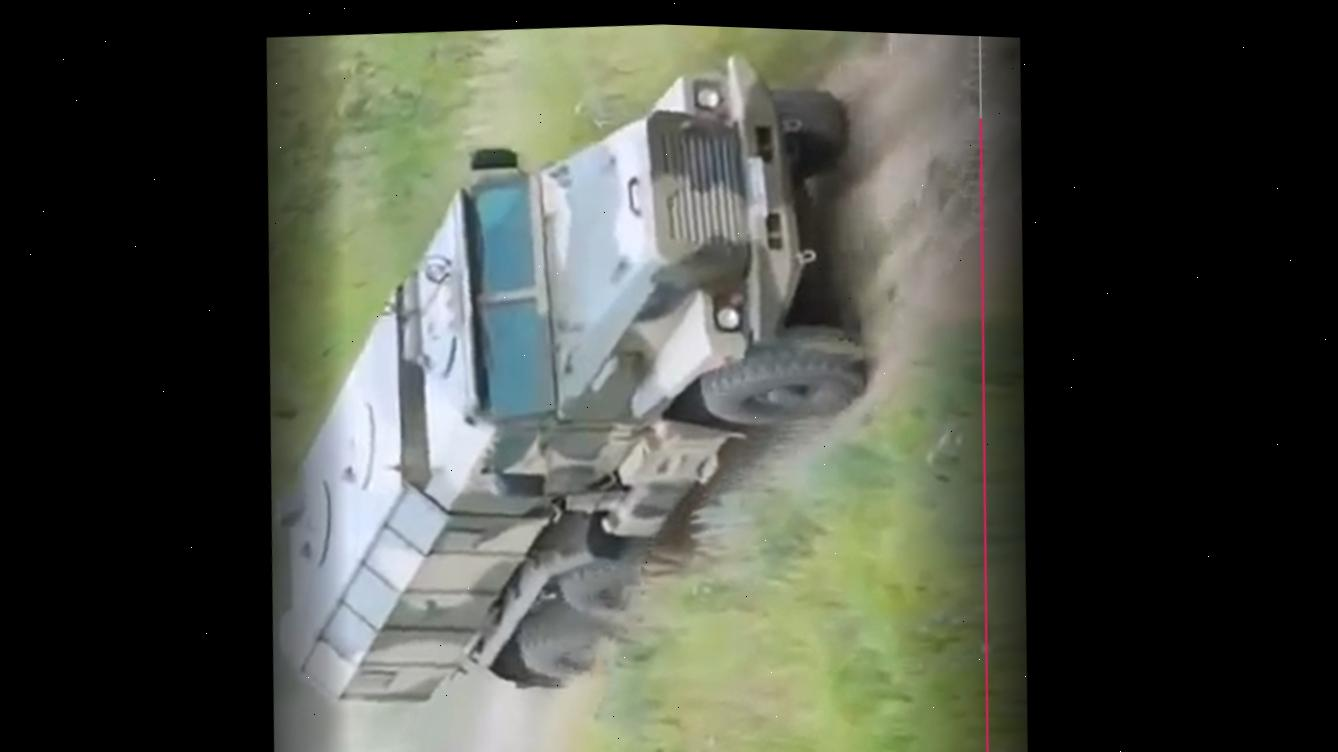truck: (235, 21, 902, 731)
